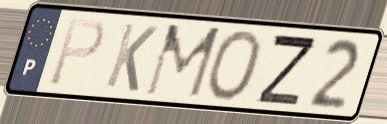2: (305, 36, 363, 112)
K: (101, 20, 161, 95)
M: (140, 22, 224, 102)
O: (203, 28, 264, 104)
P: (45, 16, 108, 89)
Z: (254, 31, 320, 108)
